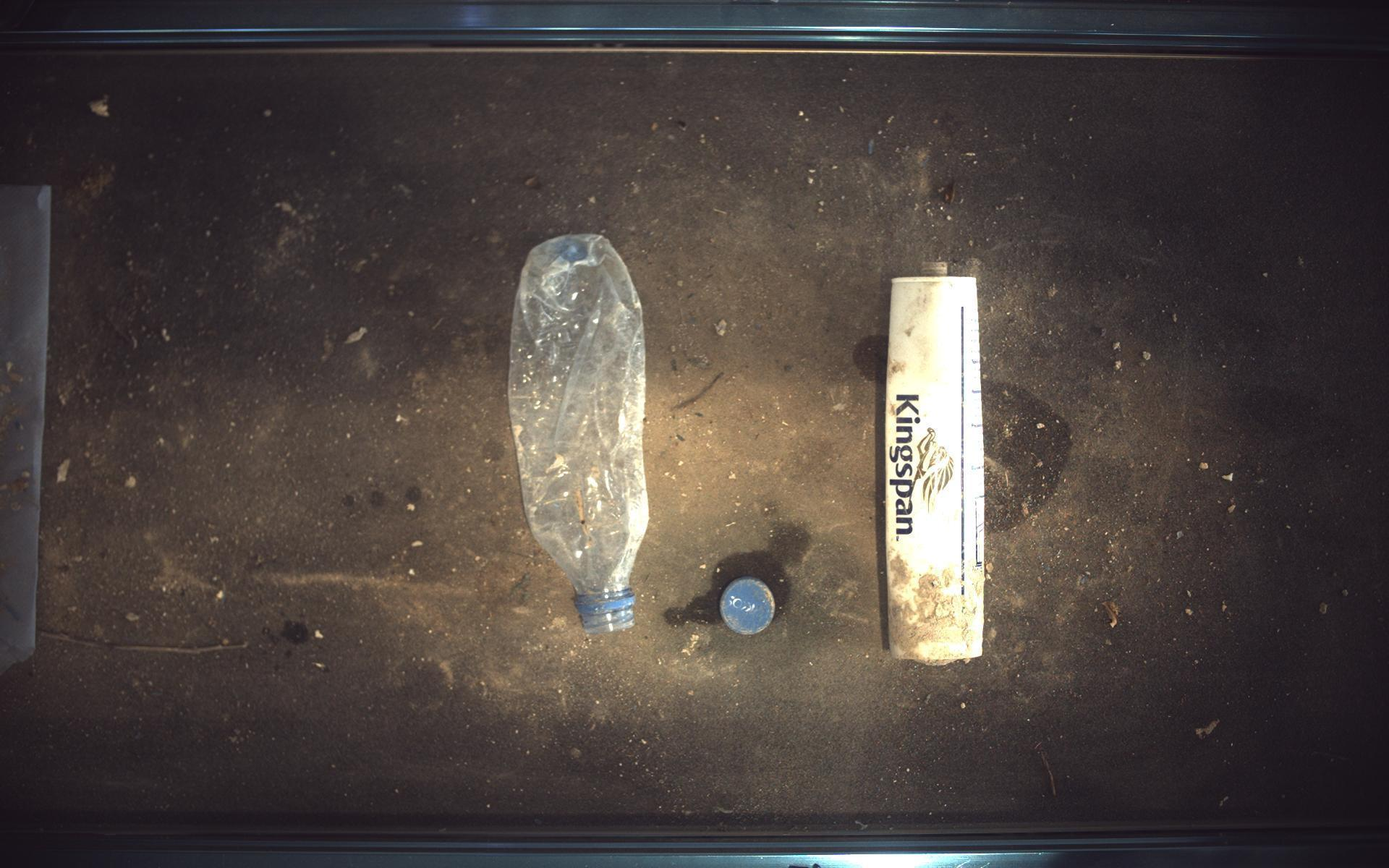general_w: (509, 234, 650, 635), (721, 578, 776, 636)
plastic: (887, 273, 987, 665)
